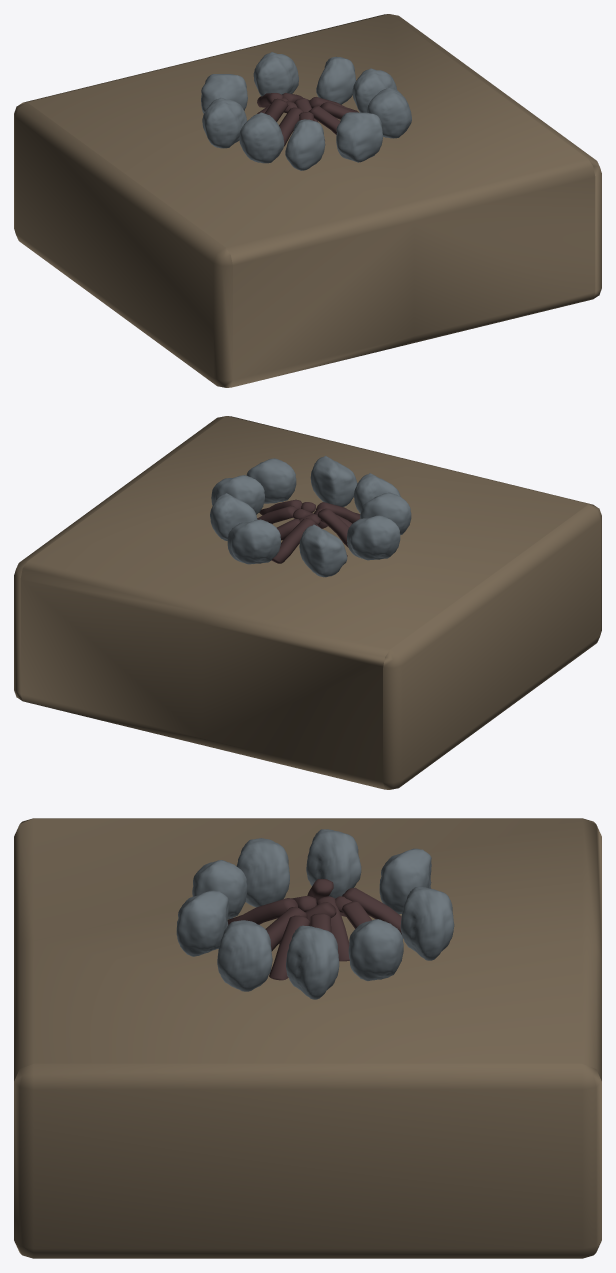
The model's file is Bancada de fogo.fbx.
The picture shows the model from 3 angles, top to bottom: view 1: azimuth 30°, elevation 25°; view 2: azimuth 150°, elevation 25°; view 3: azimuth 270°, elevation 25°; orthographic projection. The views are drawn at different scales.
Visible parts, largest first — view 1: rock; view 2: rock; view 3: rock.
Boxes of the visible parts, <box> form: rock: <box>14,14,601,387</box>; rock: <box>14,416,601,789</box>; rock: <box>14,818,601,1258</box>.
Bounding box in the file's own units: 210 × 94.04 × 199.
